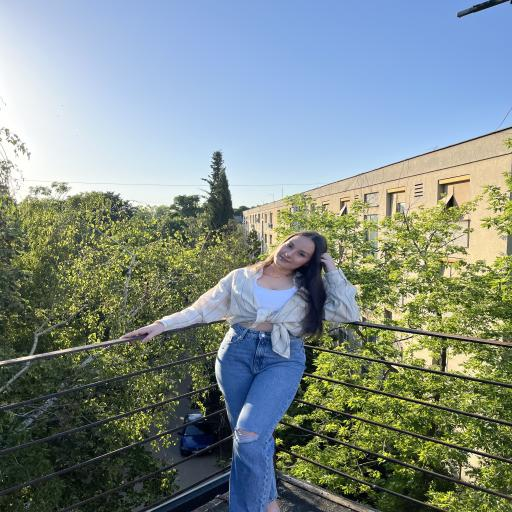marija: (274, 233, 316, 271)
